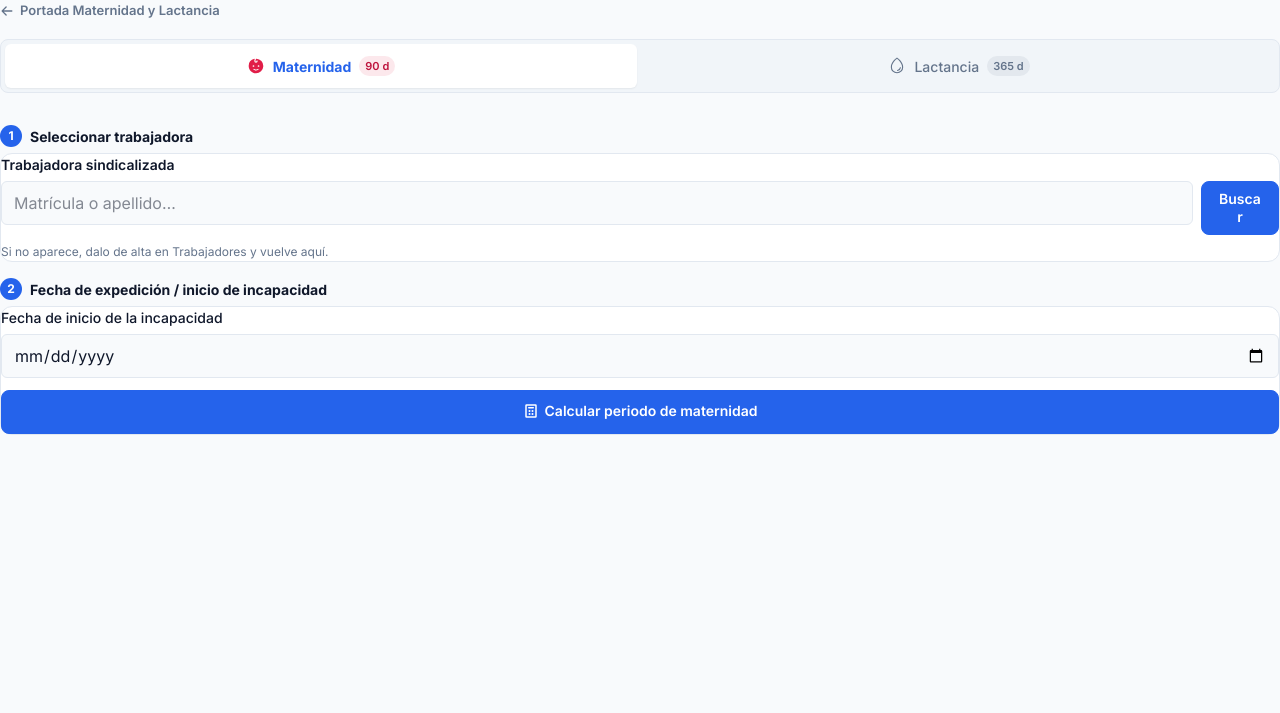
it: MaternityTool › calcula y despliega la línea de tiempo de maternidad con 90 días naturales
Step 1. Type "2026-04-01" into the date field labelled "Fecha de inicio de la incapacidad" → (640, 356), box [1, 334, 1279, 378]
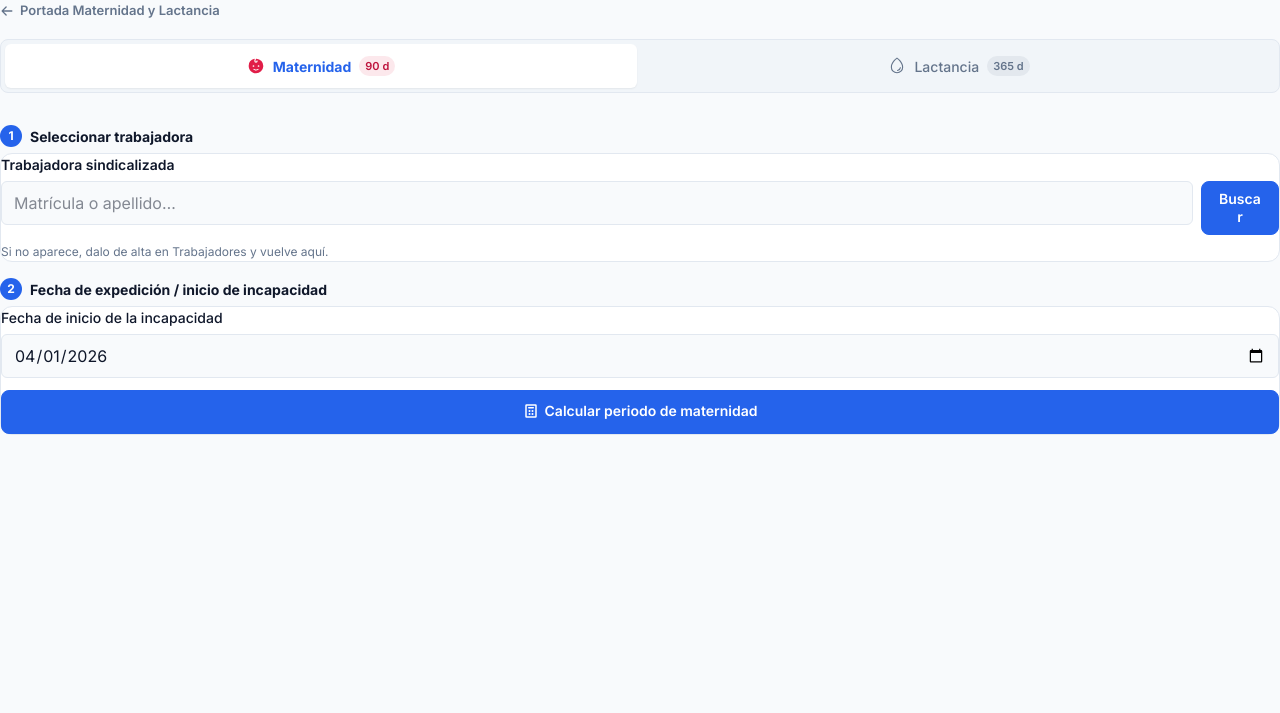
Step 2. Click the button "Calcular periodo de maternidad" → (640, 412), box [1, 390, 1279, 434]
(page scrolled)
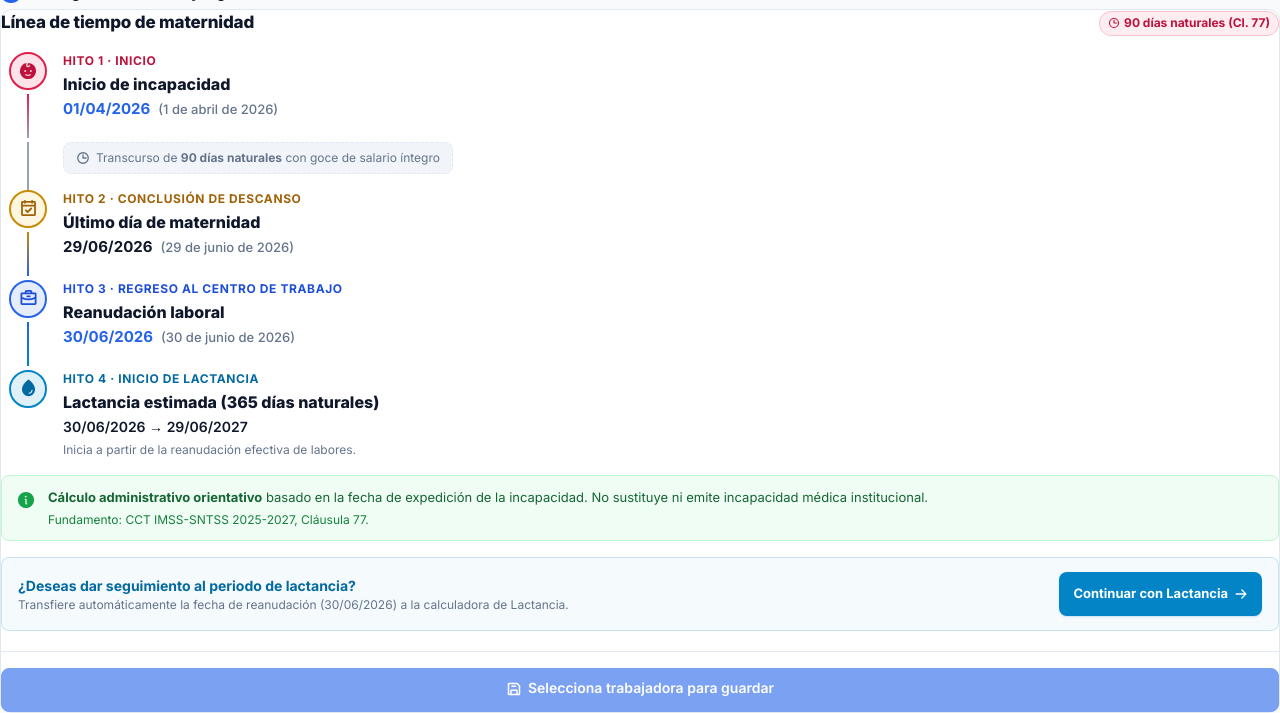
expect the heading "Línea de tiempo de maternidad" is shown: met, box [1, 10, 254, 36]
expect the text "90 días naturales (Cl. 77)" is shown: met, box [1124, 14, 1270, 32]
expect the text "Inicio de incapacidad" is shown: met, box [63, 74, 230, 94]
